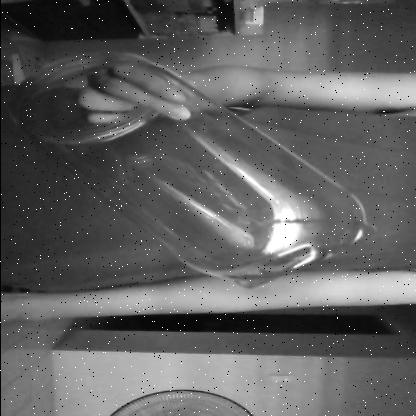Plastic Bottle: (7, 52, 372, 289)
